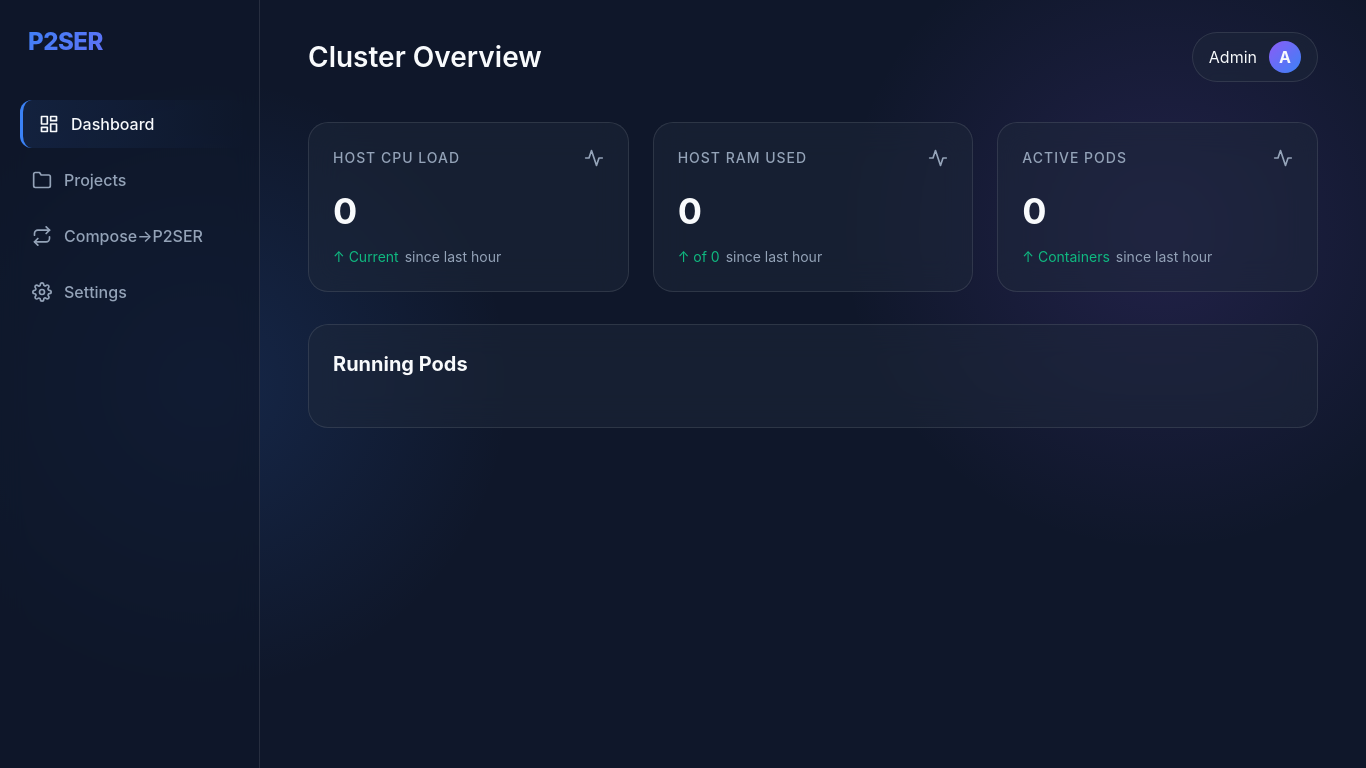
Scenario: App: Navigation › should switch to Settings tab
The image size is (1366, 768).
Click the list item "Settings".
click(79, 292)  # box x1=32 y1=282 x2=127 y2=302
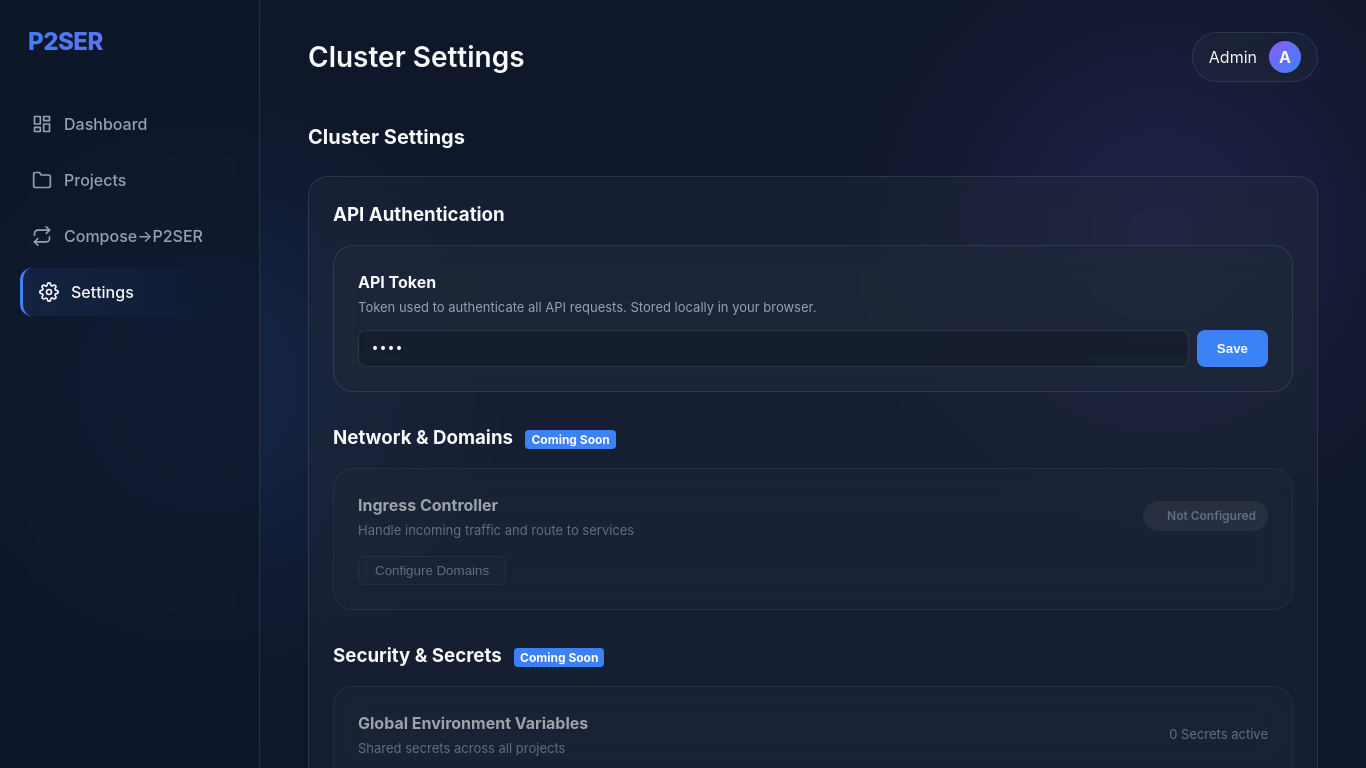
Expected: the heading "Cluster Settings" in the row of "Admin" is shown, x1=308 y1=40 x2=524 y2=74
Expected: the heading "API Authentication" is shown, x1=333 y1=203 x2=505 y2=226
Expected: the heading "Network & Domains Coming Soon" is shown, x1=333 y1=426 x2=616 y2=449
